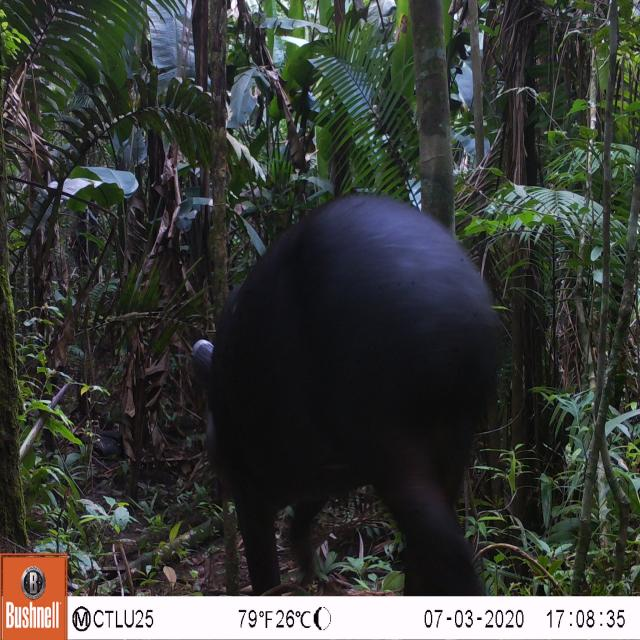Lowland Tapir: (178, 188, 518, 594)
